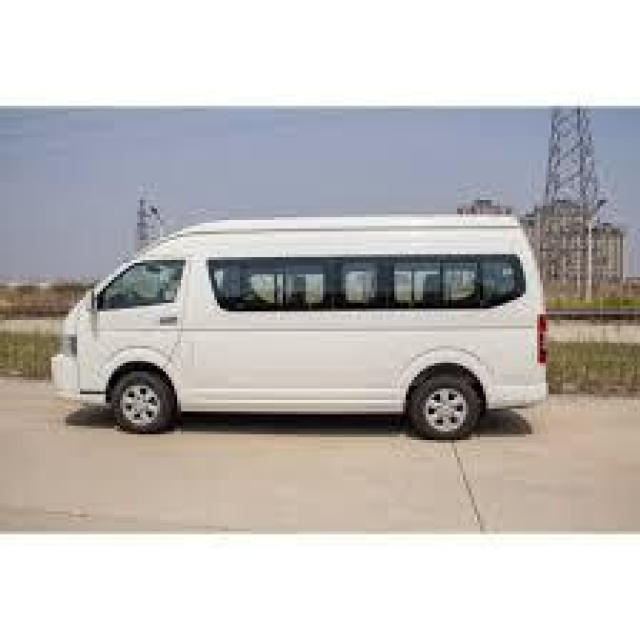Van: (46, 220, 557, 457)
